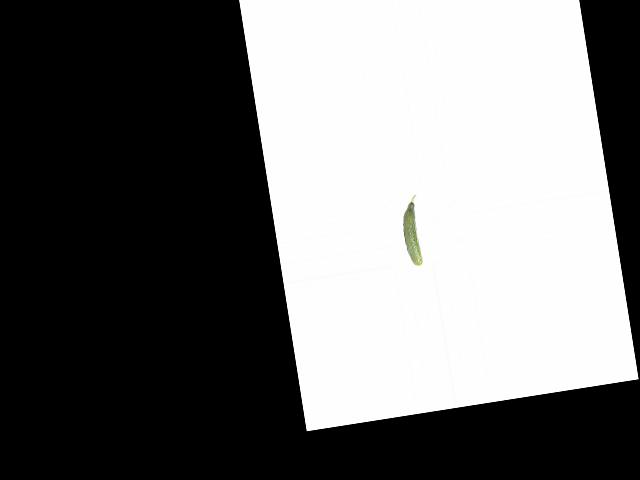cucumber: (398, 194, 426, 266)
